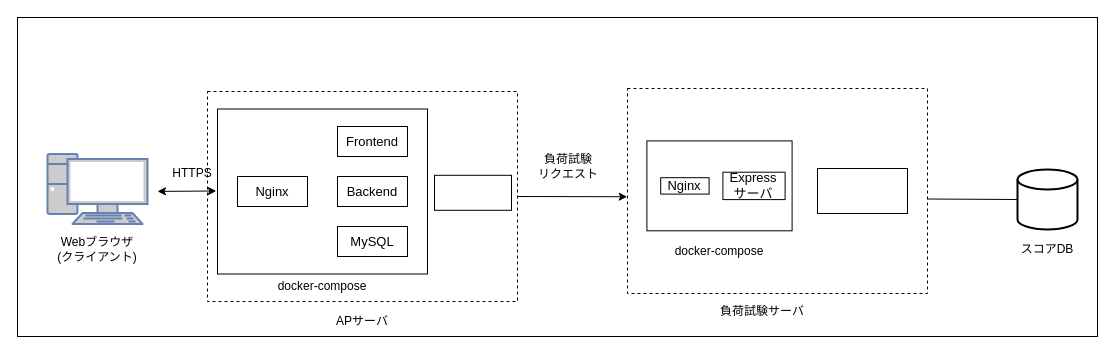
The diagram is 1115 pixels wide and 354 high, and some of its shapes have lost their labels. Here are the shapes that lost their labels. From the top down, the centre of each, then its label:
At (x=473, y=192): "E2Eテスト モジュール".
At (x=862, y=191): "負荷試験 モジュール".
